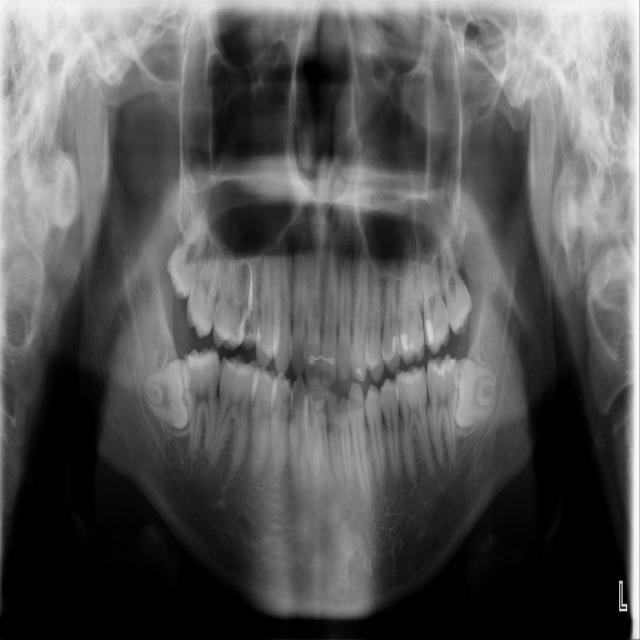3M ESPE Implant: (161, 199, 210, 301)
52: (425, 351, 464, 400), (422, 301, 452, 355), (395, 312, 425, 365), (378, 321, 403, 374), (237, 316, 263, 351)
73: (241, 253, 264, 318), (616, 578, 618, 586)
BioHorizons Implant: (420, 243, 451, 356)
BioLife Implant: (429, 233, 480, 338)
Biomet 3i Implant: (450, 357, 500, 430)
Blue Sky Bio Implant: (427, 353, 460, 465)
Caries: (179, 228, 234, 342)
Implant: (181, 346, 223, 462)
Keystone Dental Implant: (141, 359, 195, 432)
